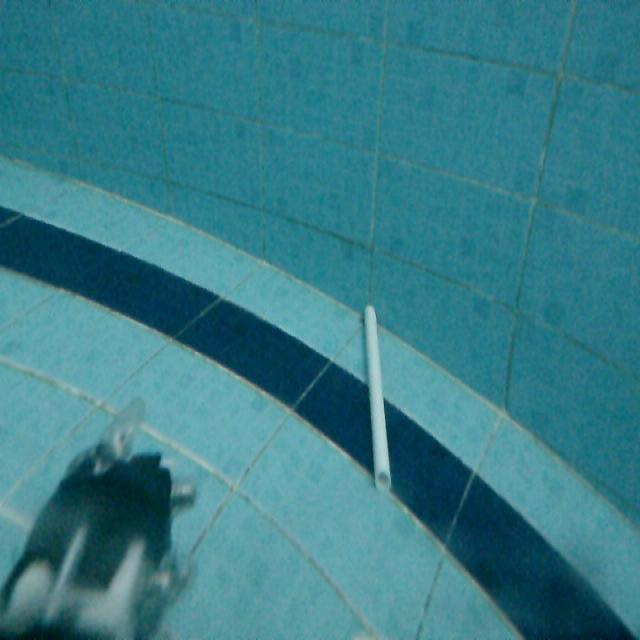Cube: (359, 299, 395, 493)
